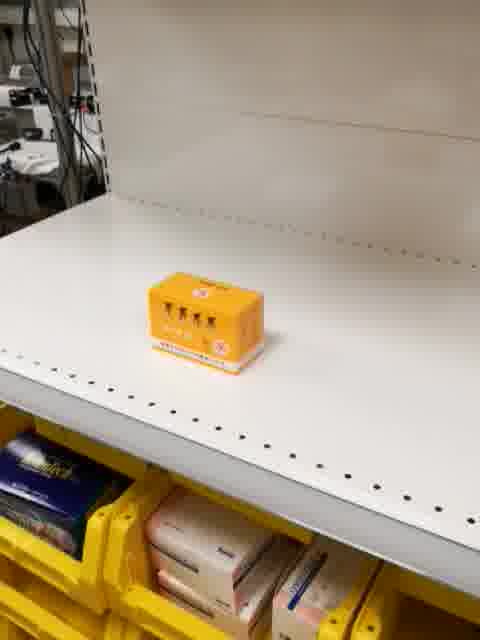jasminetea: (147, 270, 268, 378)
